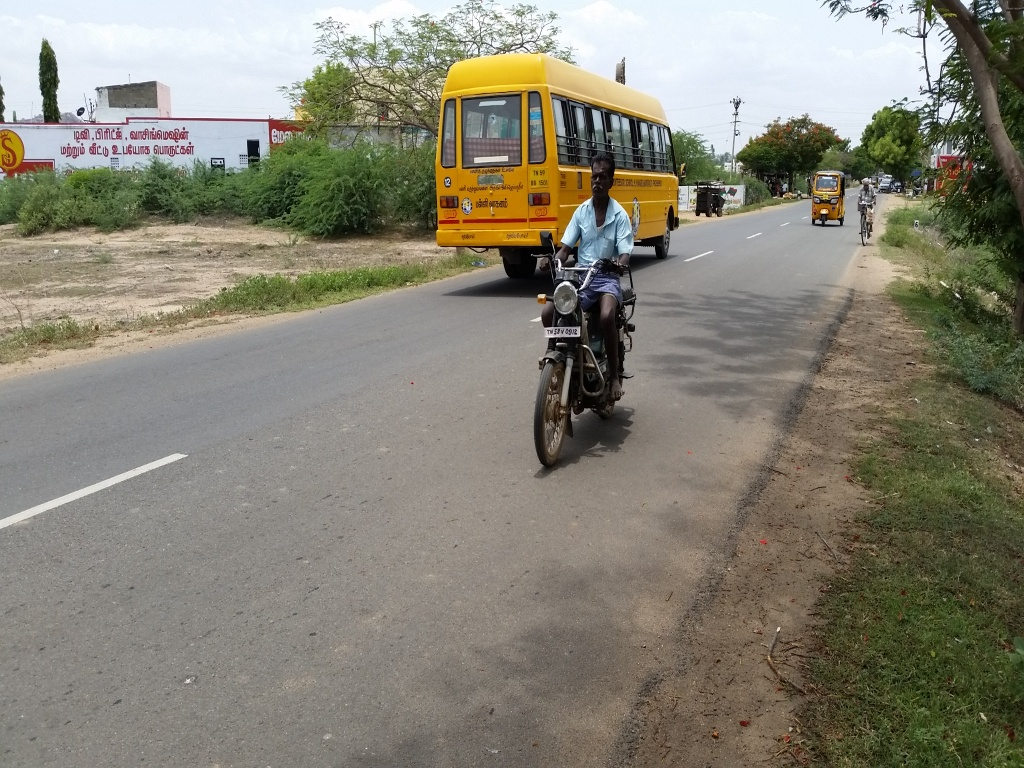biker: (503, 117, 671, 487)
nohelmet: (583, 141, 621, 216)
